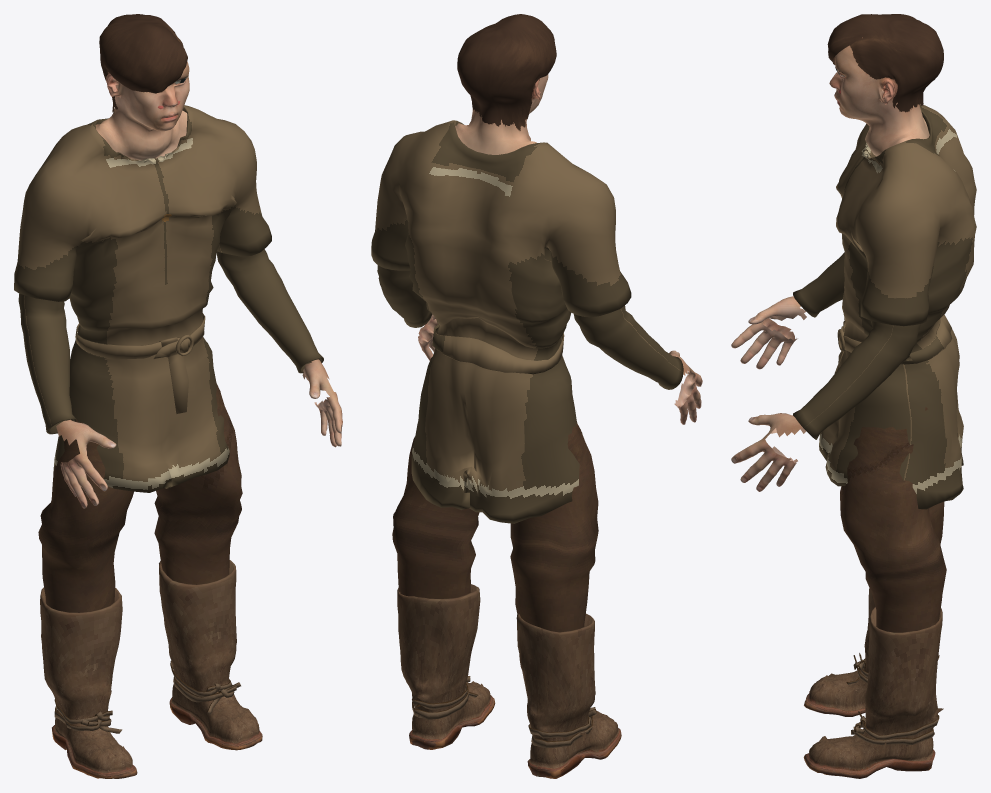
The model's file is mike-travel-coat.glb.
3 renders of one model, left to right at view 1: azimuth 30°, elevation 25°; view 2: azimuth 150°, elevation 25°; view 3: azimuth 270°, elevation 25°, orthographic.
Visible parts, largest first — view 1: mike-travel-coat runtime mesh; view 2: mike-travel-coat runtime mesh; view 3: mike-travel-coat runtime mesh.
Boxes of the visible parts, bbox=[...] form: mike-travel-coat runtime mesh: bbox=[14, 14, 342, 778]; mike-travel-coat runtime mesh: bbox=[371, 14, 702, 778]; mike-travel-coat runtime mesh: bbox=[731, 14, 976, 778].
Size of the model in its own units: 0.7403 by 1.85 by 0.5719.
8 materials, 7 textured.
